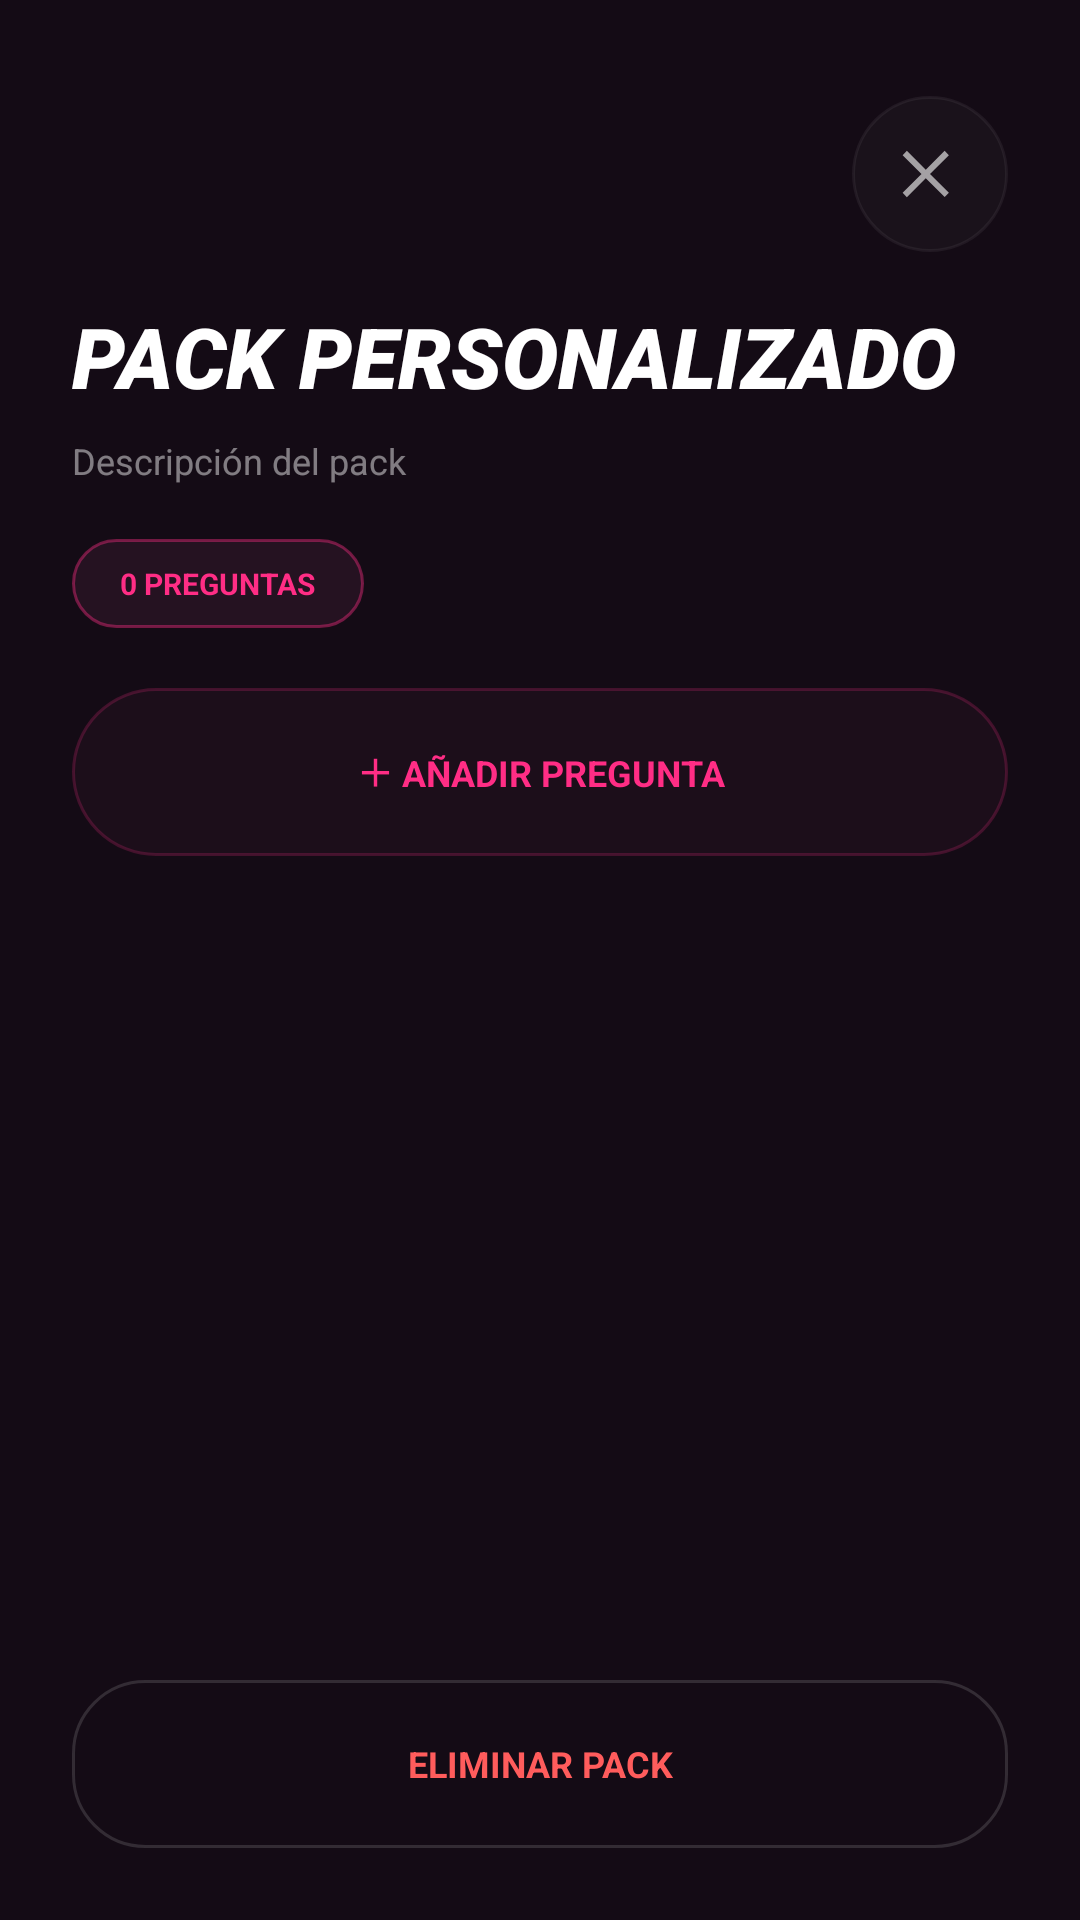

Icons on this 1080w x 1920h Android screen, each with the point to tap as point (x, y):
Cerrar: point (925, 174)
